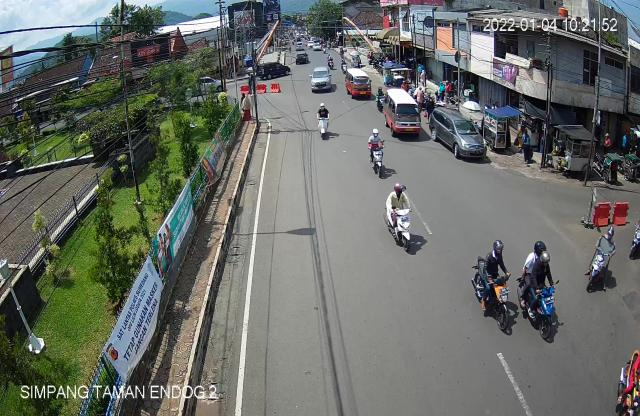Mobil: (429, 104, 492, 164), (381, 85, 424, 141), (342, 67, 375, 101), (309, 63, 334, 93)
Motor: (516, 238, 572, 345), (473, 238, 512, 331), (382, 180, 424, 254), (584, 221, 616, 304), (364, 127, 391, 180), (316, 101, 337, 143)
